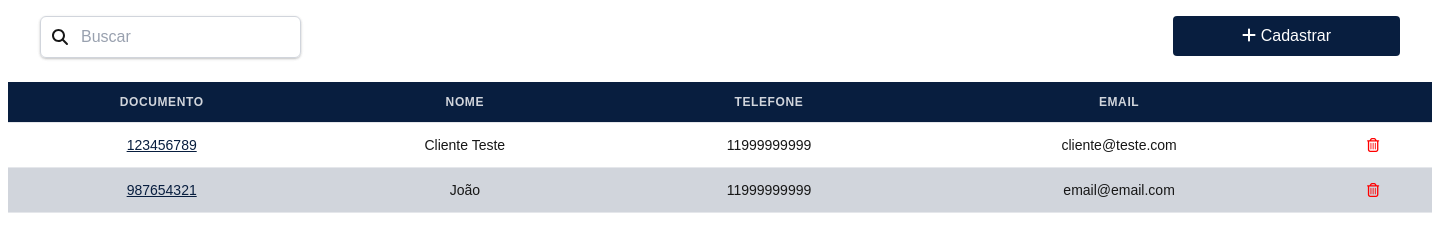
Test case: ClientPage › deve filtrar clientes
Expected: the text "Cliente Teste" is shown, [315,122,614,168]
Type "Cliente" into the field with placeholder "Buscar". click: (170, 37)
box: [40,16,301,58]
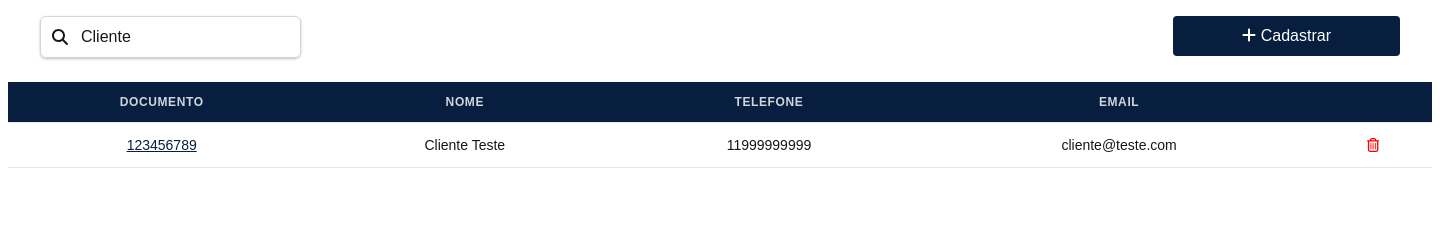
Expected: the text "Cliente Teste" is shown, [315,122,614,168]
Expected: the text "João" is gone
Replace the text in the field with placeholder "Buscar" with "XYZ". click: (170, 37)
box: [40,16,301,58]
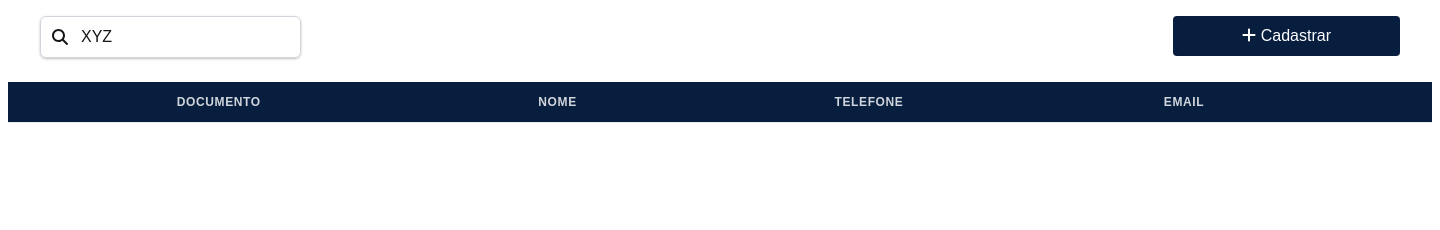
Expected: the text "Cliente Teste" is gone
